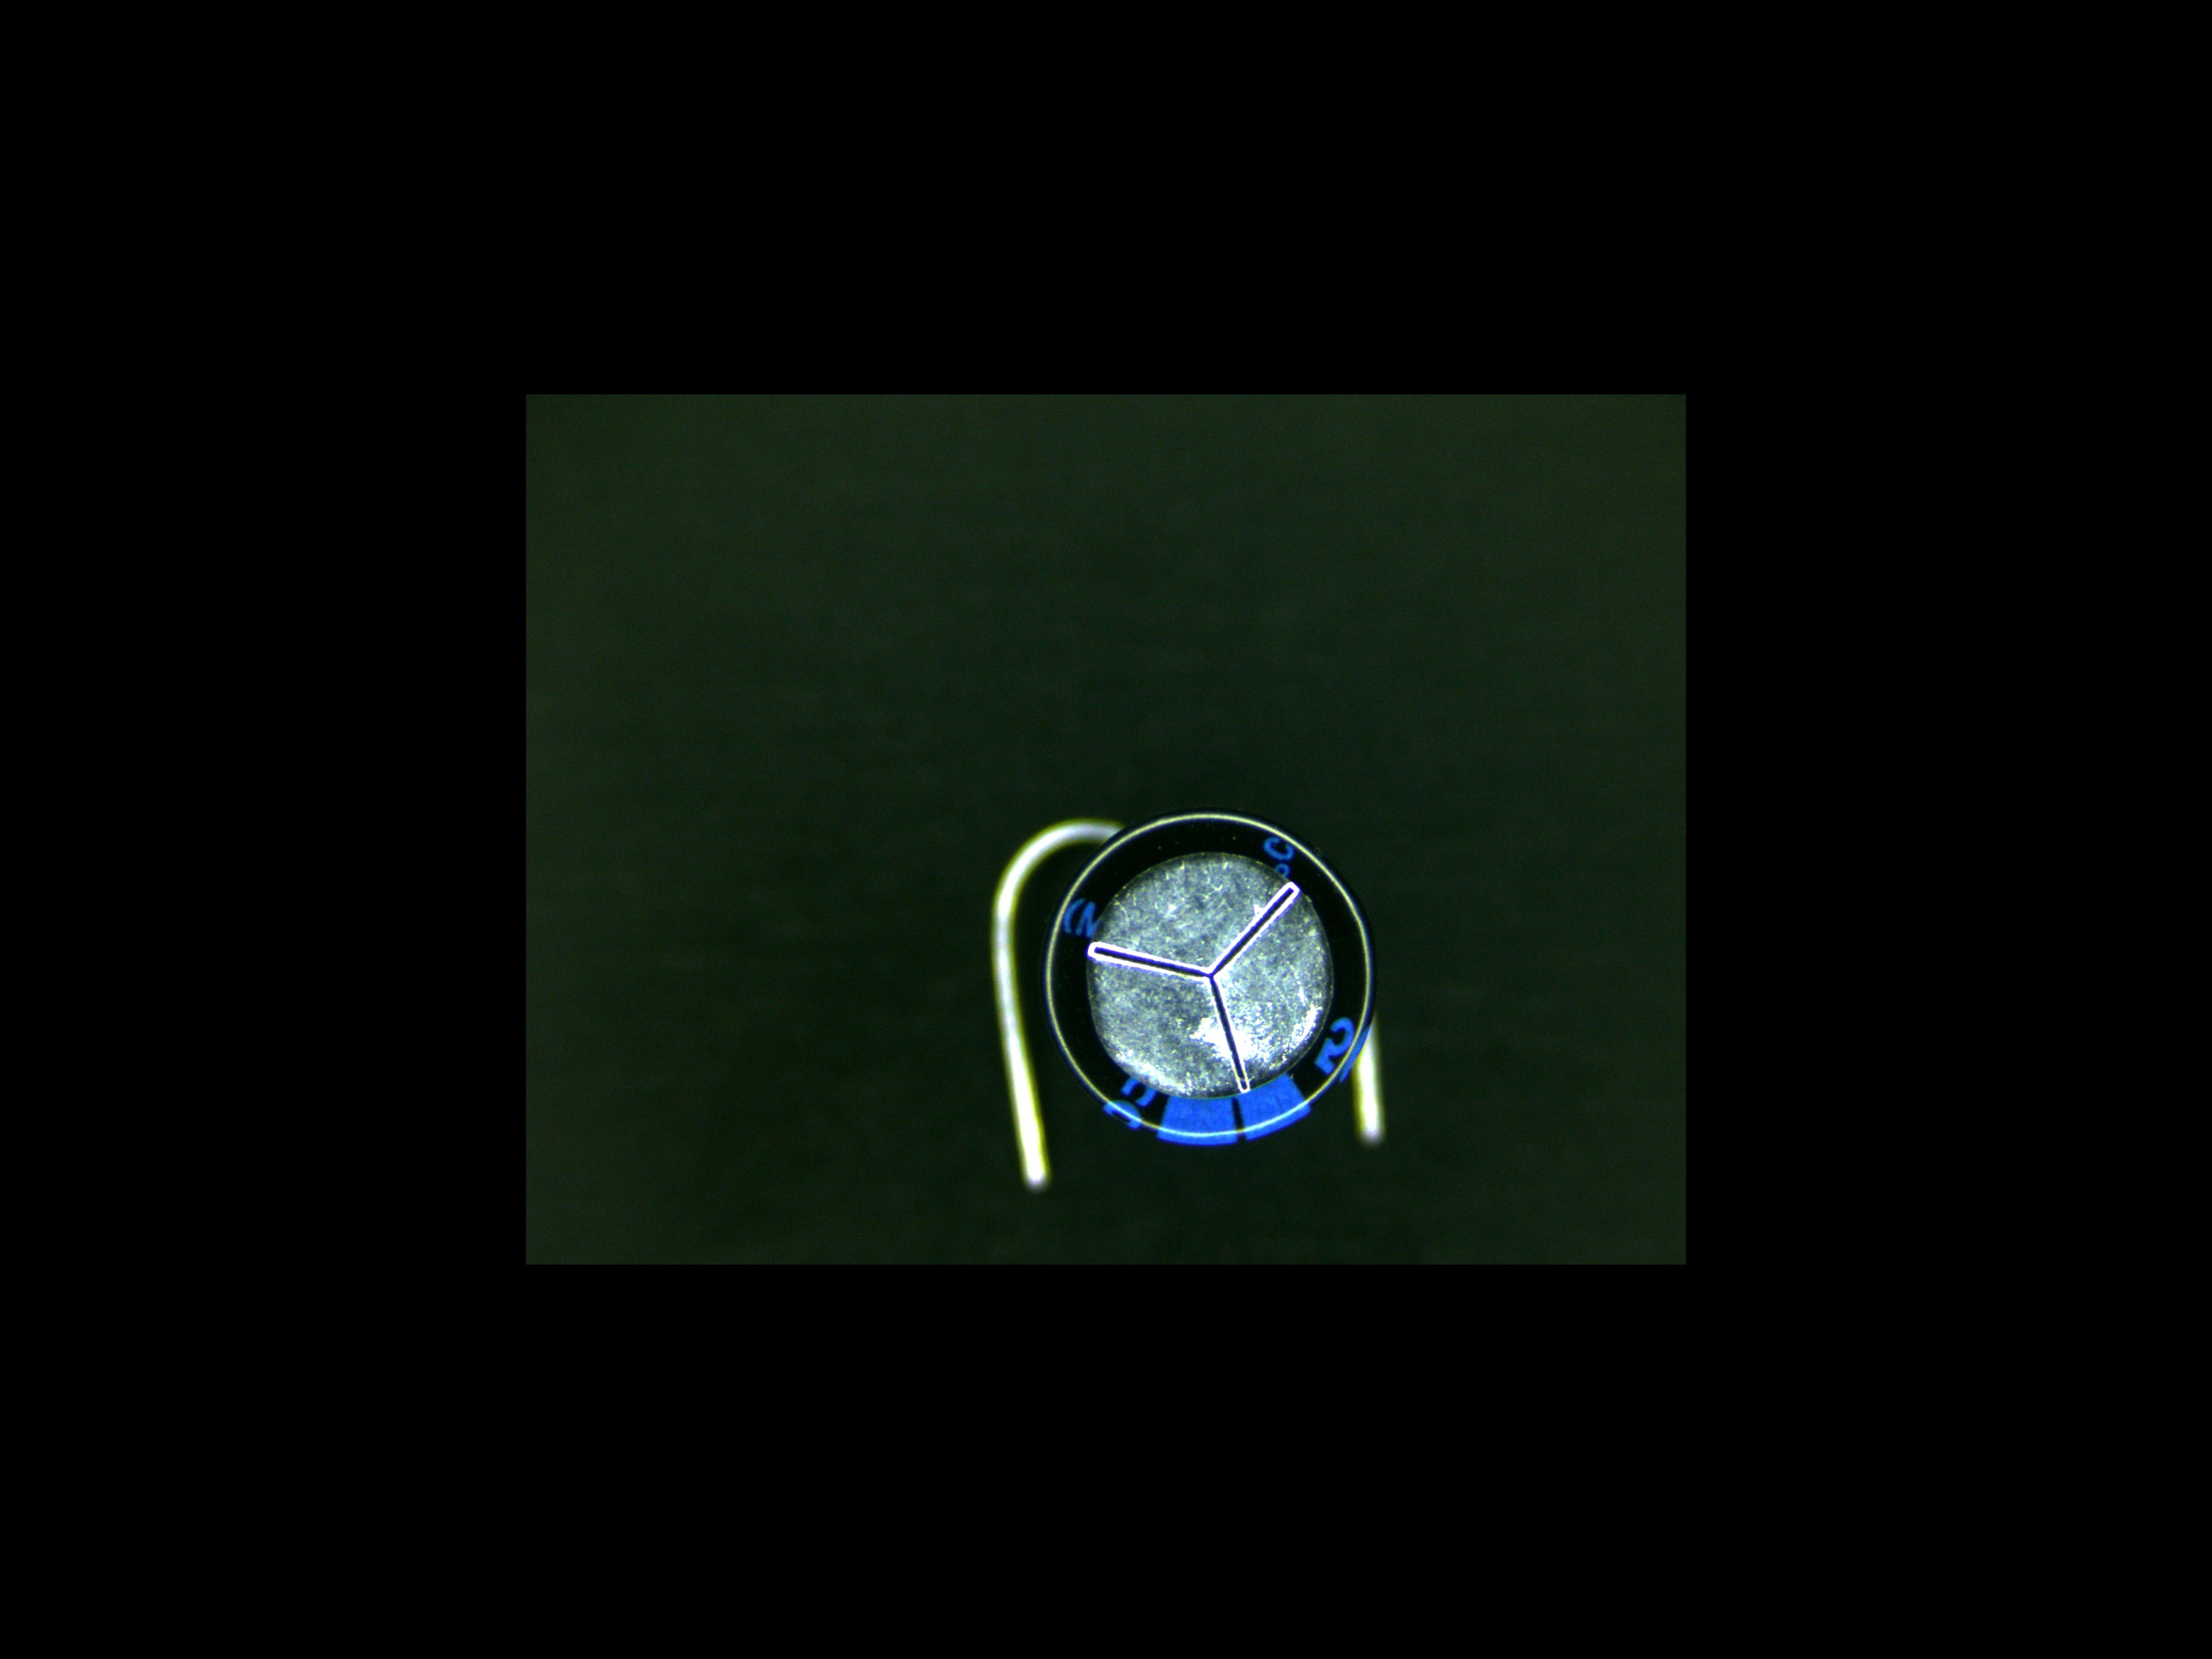c2: (1050, 810, 1376, 1148)
